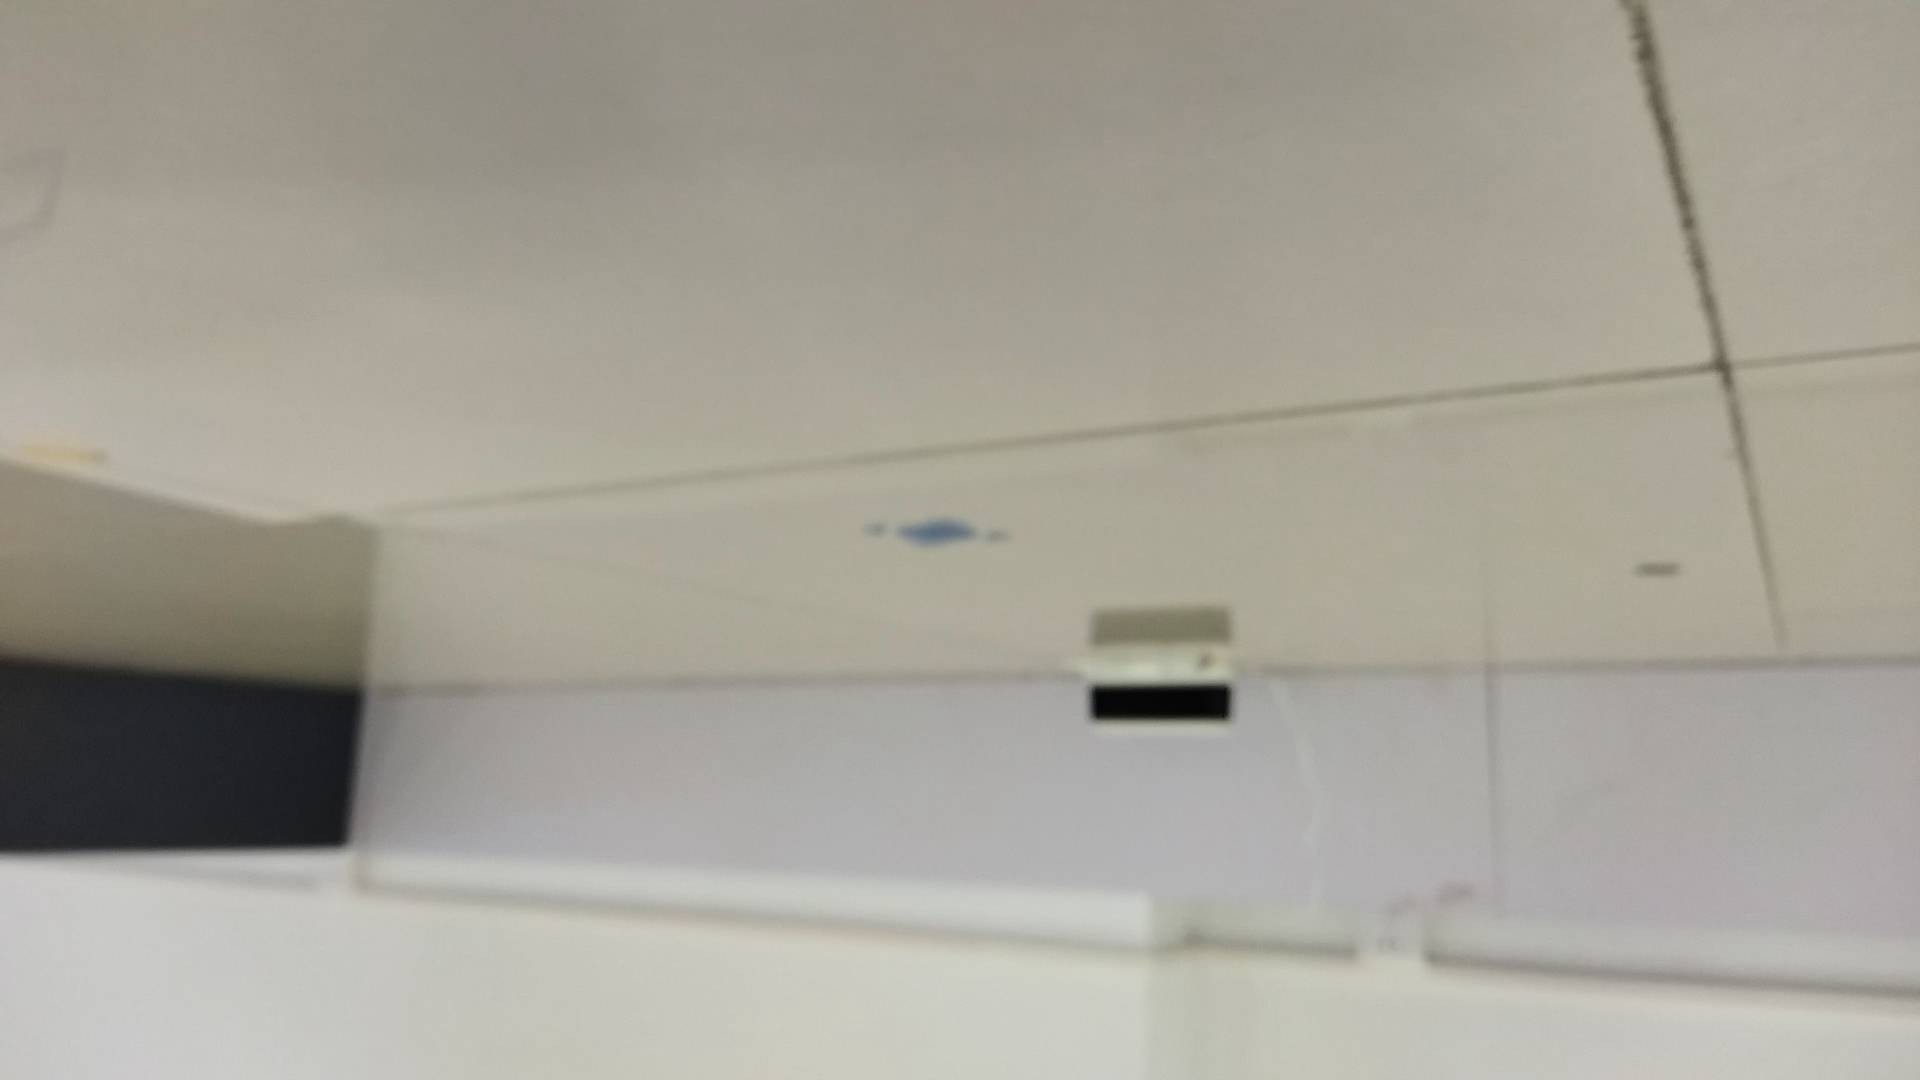recharge seat: (1063, 640, 1245, 735)
